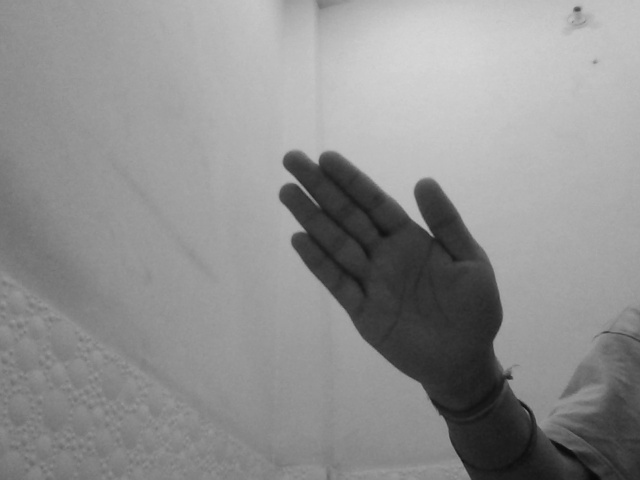Hello: (277, 149, 506, 383)
